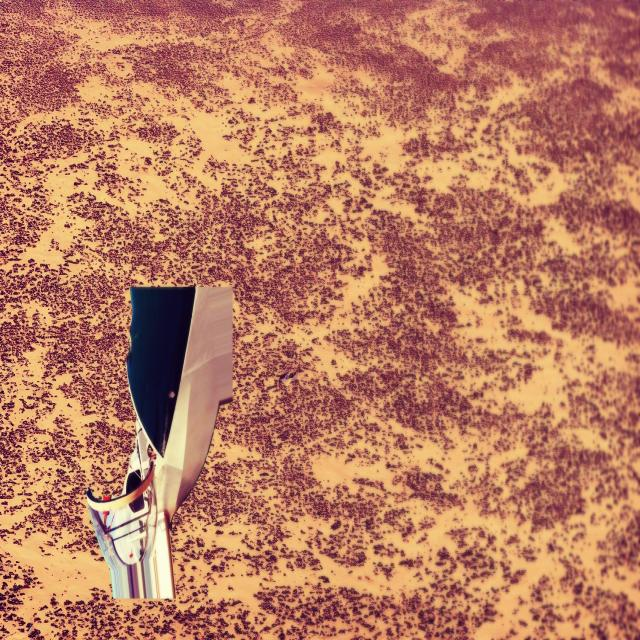airplane: (85, 281, 234, 601)
